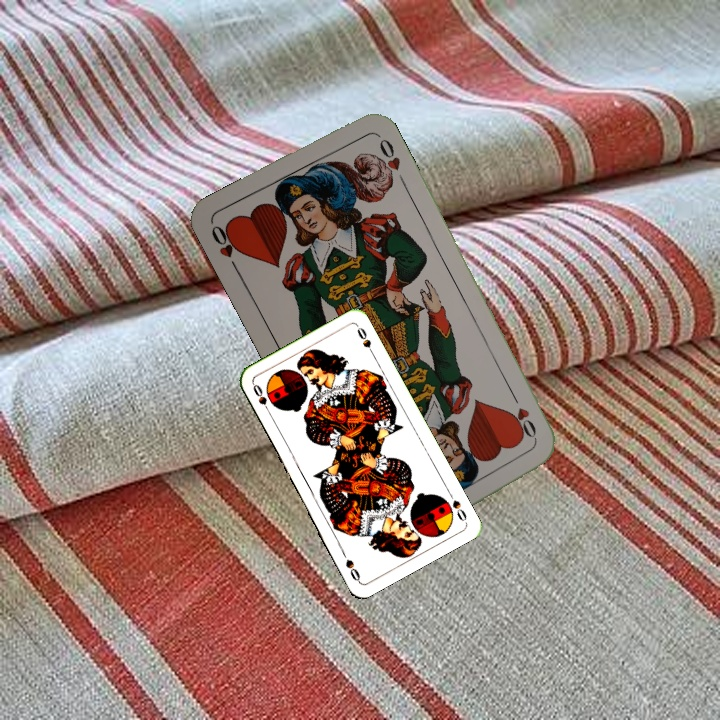HO: (207, 221, 244, 275), (508, 390, 541, 446)
SO: (444, 487, 469, 525), (249, 380, 273, 418)
